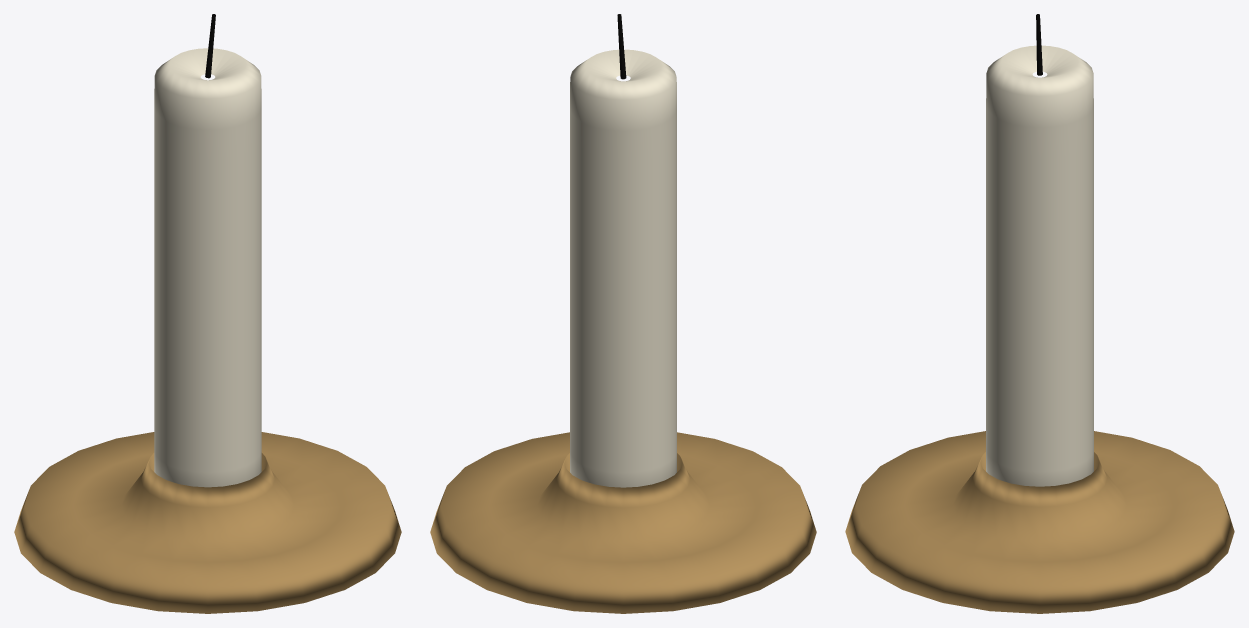
The model's file is candle_L1.glb.
The picture shows the model from 3 angles, left to right: view 1: azimuth 30°, elevation 25°; view 2: azimuth 150°, elevation 25°; view 3: azimuth 270°, elevation 25°; orthographic projection.
Visible parts, largest first — view 1: holder, wax; view 2: holder, wax; view 3: holder, wax.
Part boxes in pixels (x1,y1,x2,y2): holder: [14, 432, 401, 613]; wax: [154, 48, 261, 487]; holder: [430, 432, 816, 613]; wax: [570, 49, 676, 487]; holder: [845, 431, 1234, 613]; wax: [986, 45, 1093, 486].
Bounding box in the file's own units: 0.0795 × 0.117 × 0.0795.
3 materials, 1 textured.
